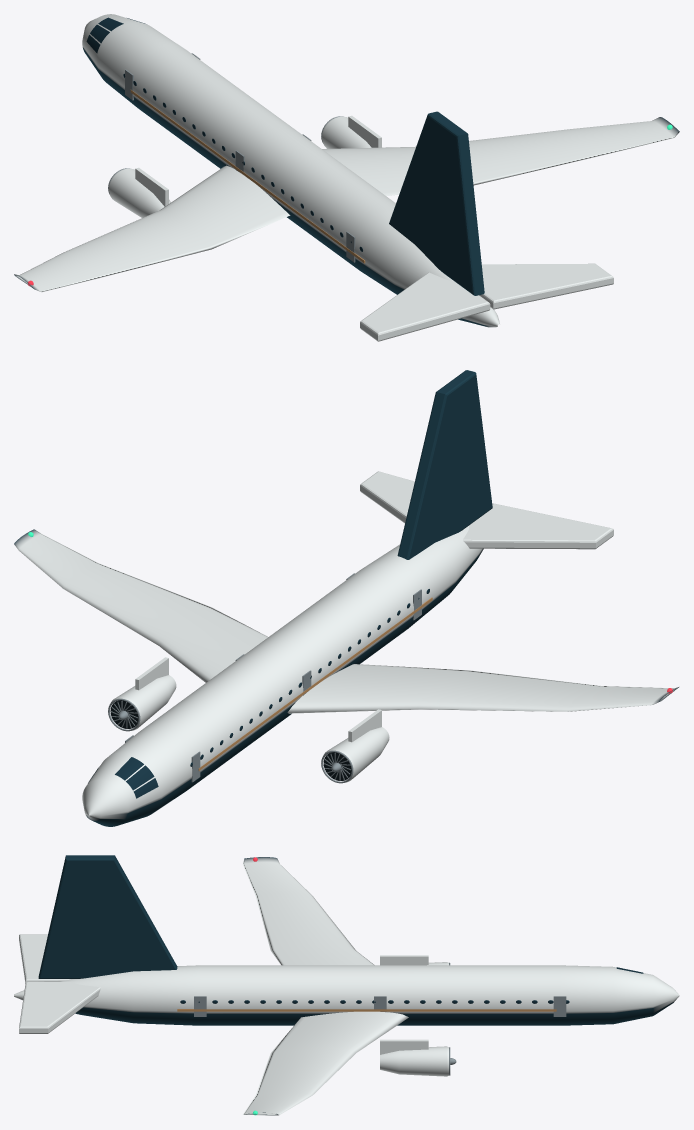
The picture shows the model from 3 angles, top to bottom: view 1: azimuth 30°, elevation 25°; view 2: azimuth 150°, elevation 25°; view 3: azimuth 270°, elevation 25°; orthographic projection. The views are drawn at different scales.
Bounding box in the file's own units: 35.92 × 11.41 × 39.52.
